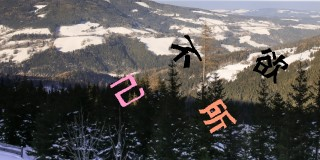不: (171, 35, 202, 68)
己: (109, 74, 145, 107)
所: (197, 98, 237, 133)
欲: (253, 48, 288, 84)
